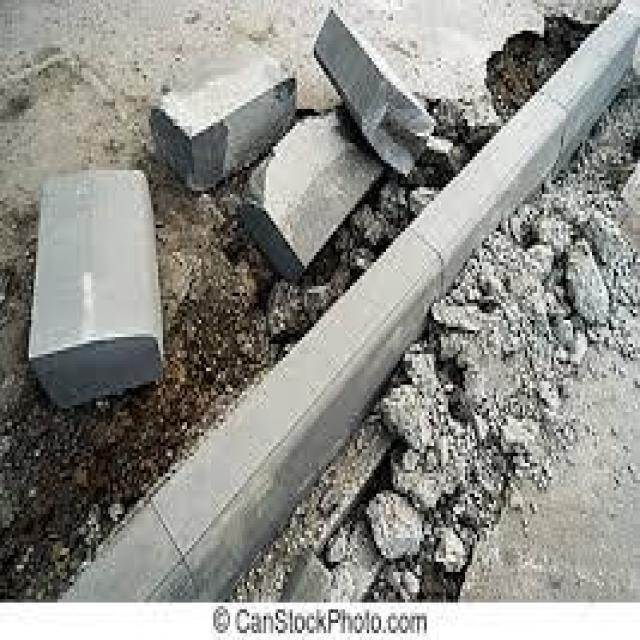curb: (152, 305, 388, 599), (348, 162, 484, 347), (499, 74, 564, 226), (572, 4, 638, 128)
